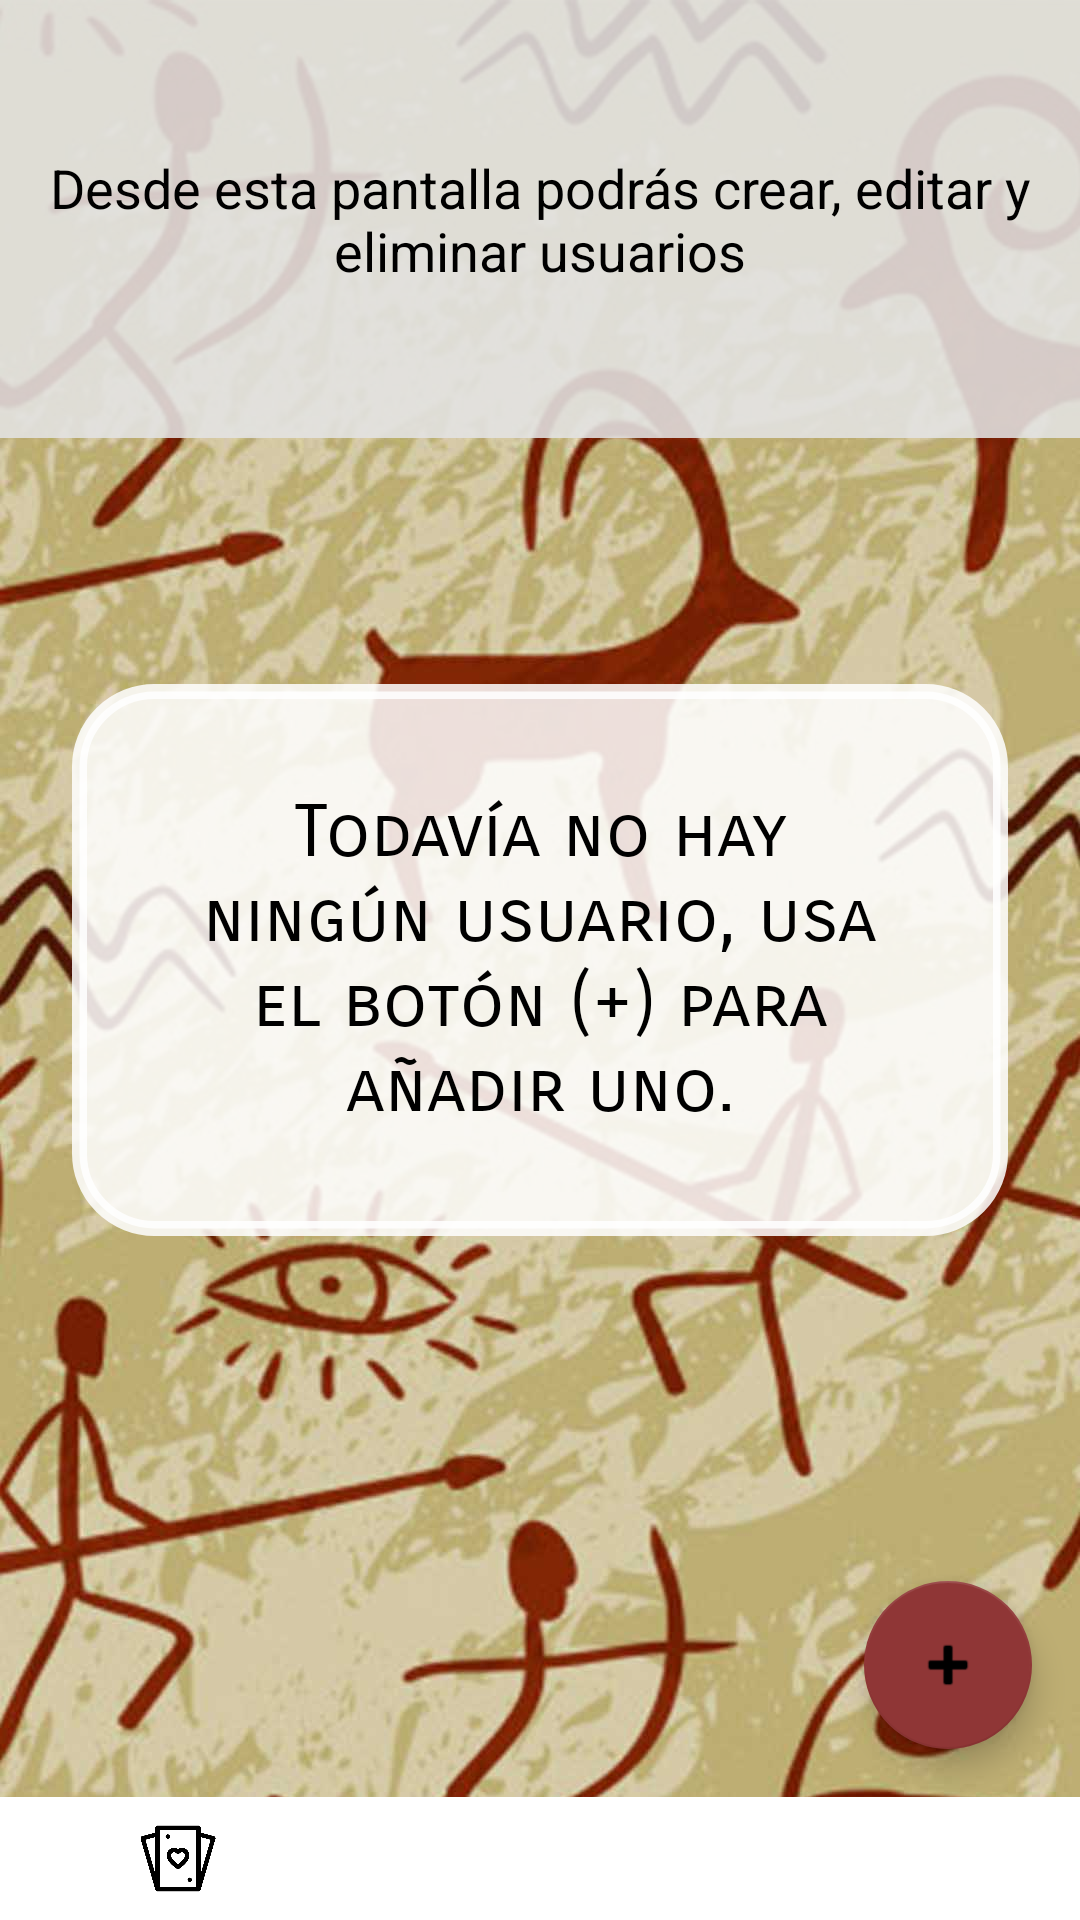

Screen size 1080px×1920px. Icon name, then its box in pixels as (x1, y1, x2, y2):
add: (864, 1581, 1032, 1749)
poker: (141, 1825, 216, 1892)
